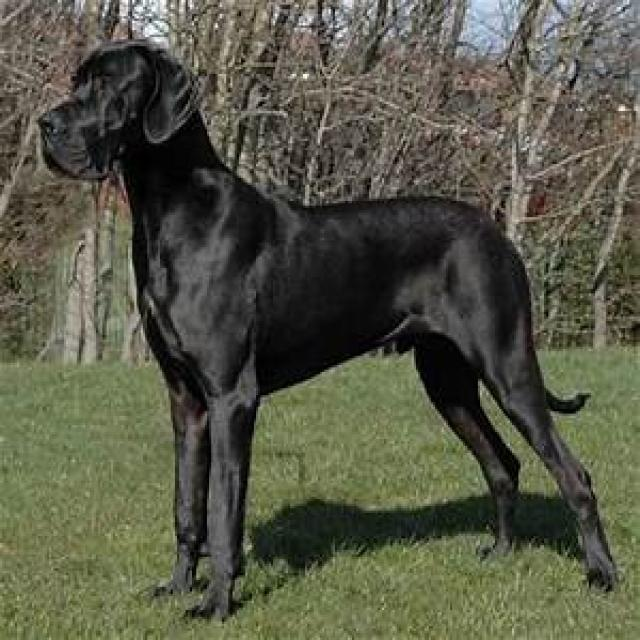KOPEK: (36, 33, 627, 625)
